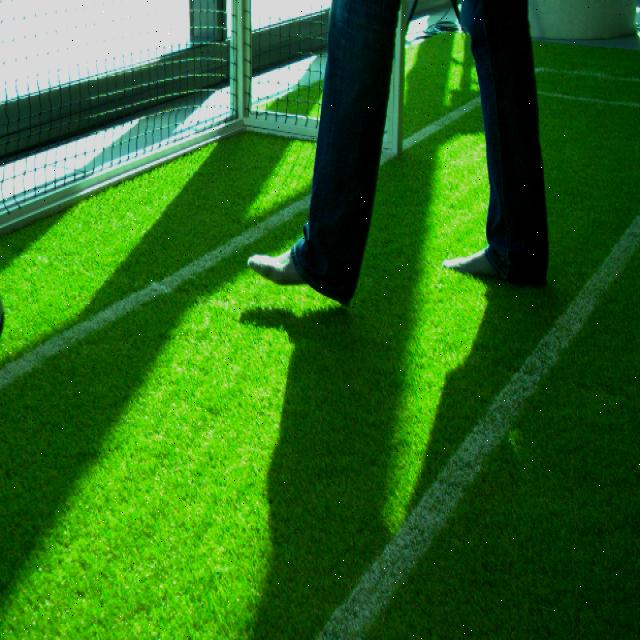goalpost: (388, 0, 404, 155)
